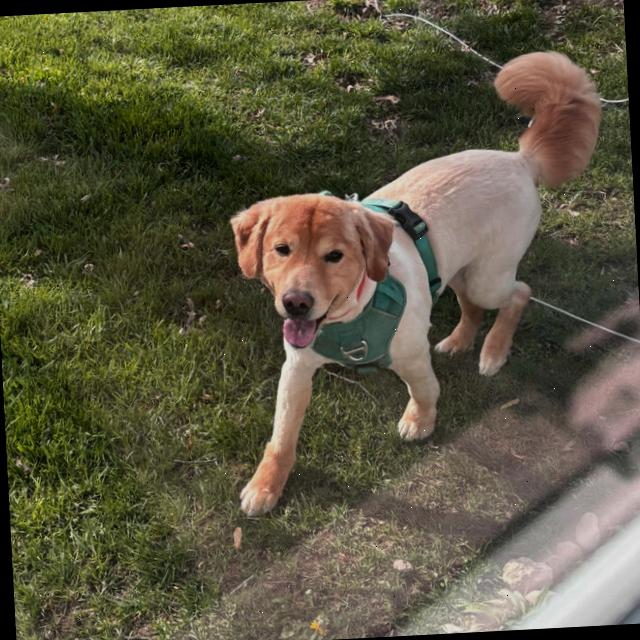golden_retriever_dog: (221, 180, 405, 364)
